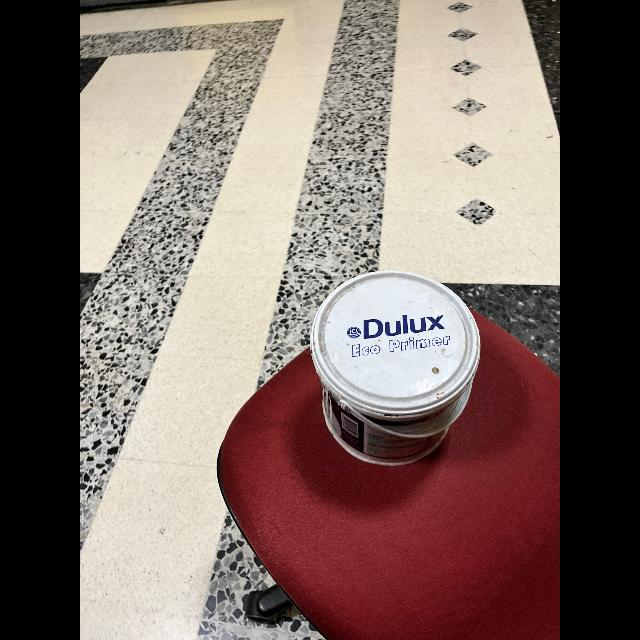paint_bucket: (296, 253, 484, 471)
